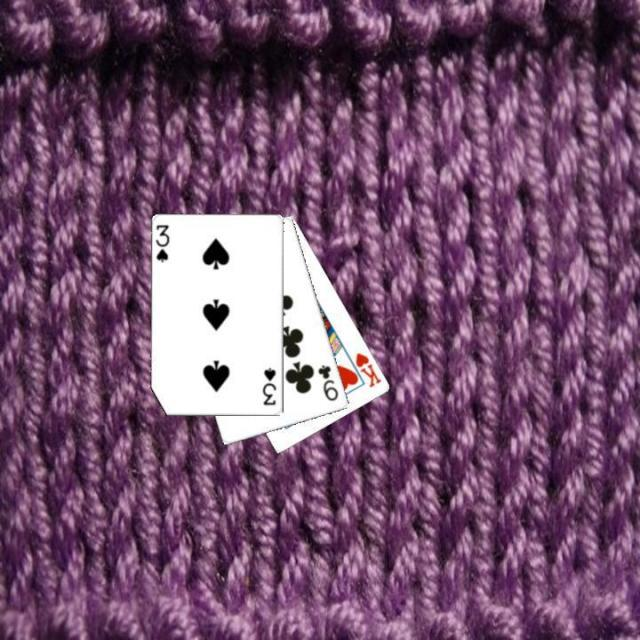3S: (260, 365, 278, 407), (153, 221, 171, 263)
9C: (314, 361, 340, 403)
KH: (352, 349, 383, 390)
